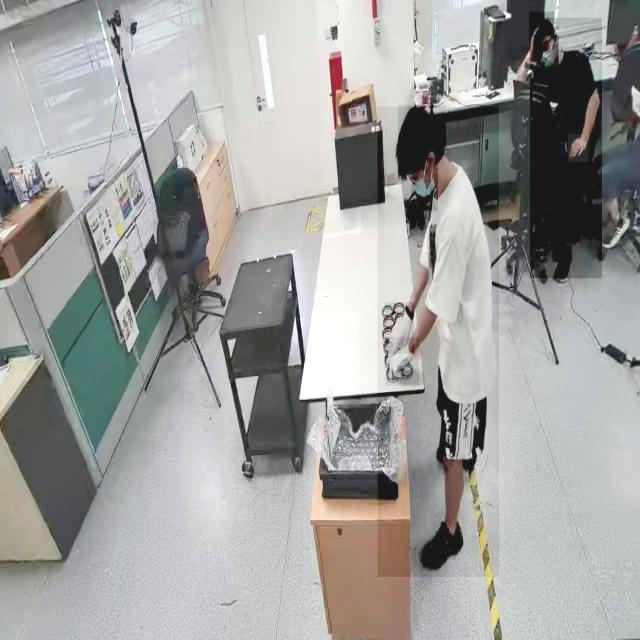face_mask: (412, 157, 438, 211), (535, 34, 559, 74)
hand_glove: (385, 337, 419, 387), (385, 302, 414, 354)
hand_noglove: (568, 134, 588, 163), (528, 21, 542, 57)
head_nohelmet: (398, 105, 446, 147), (528, 12, 554, 36)
person: (377, 107, 499, 578), (530, 18, 602, 279)
shoes: (419, 516, 465, 575), (600, 205, 630, 251)
